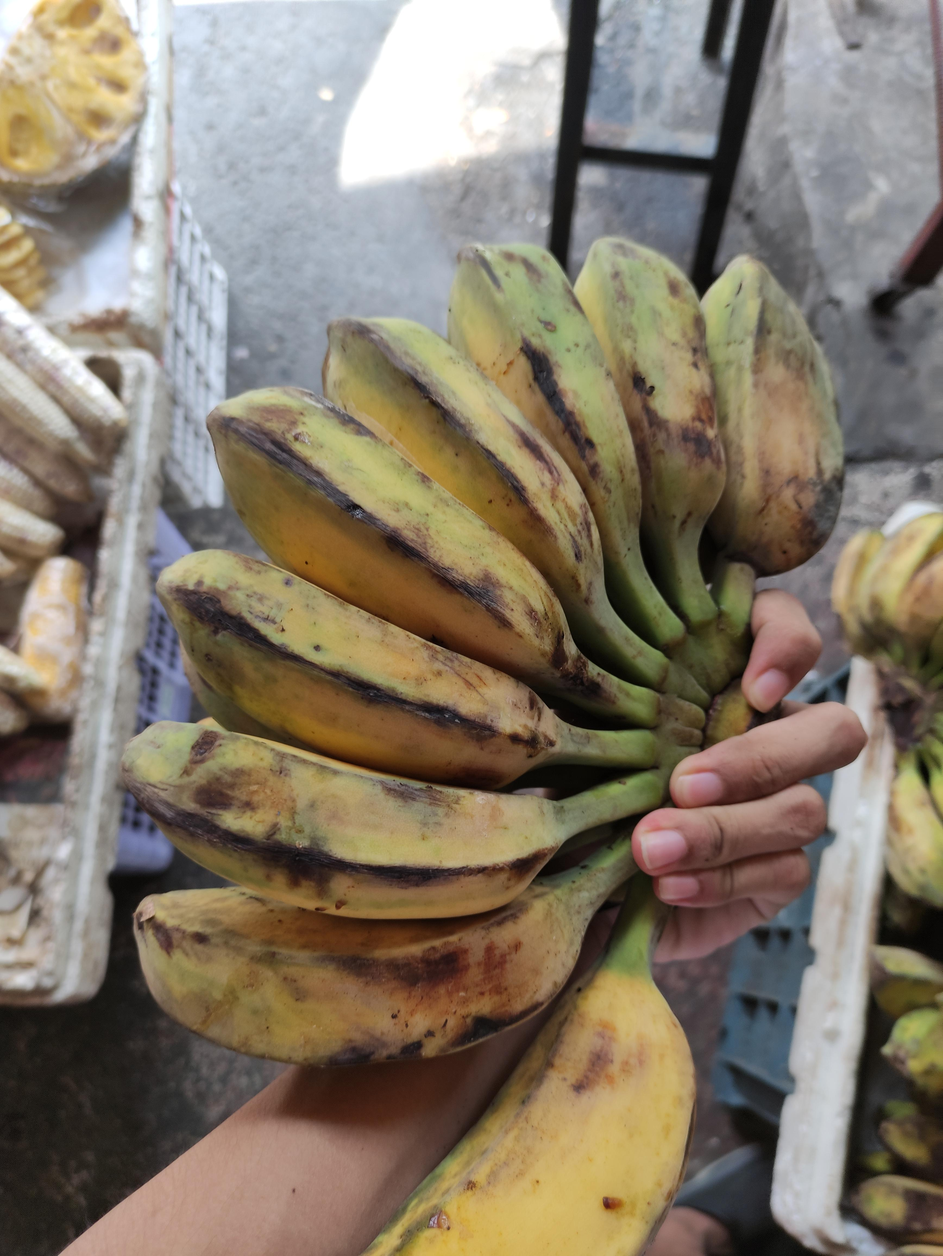underripe: (123, 238, 844, 1256)
